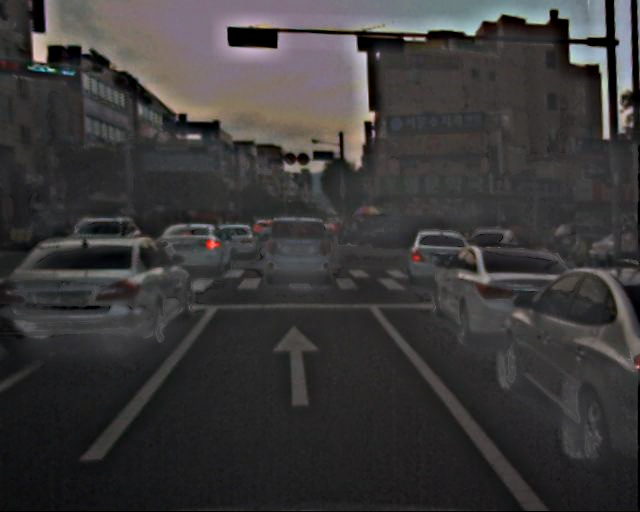person: (564, 233, 591, 299)
